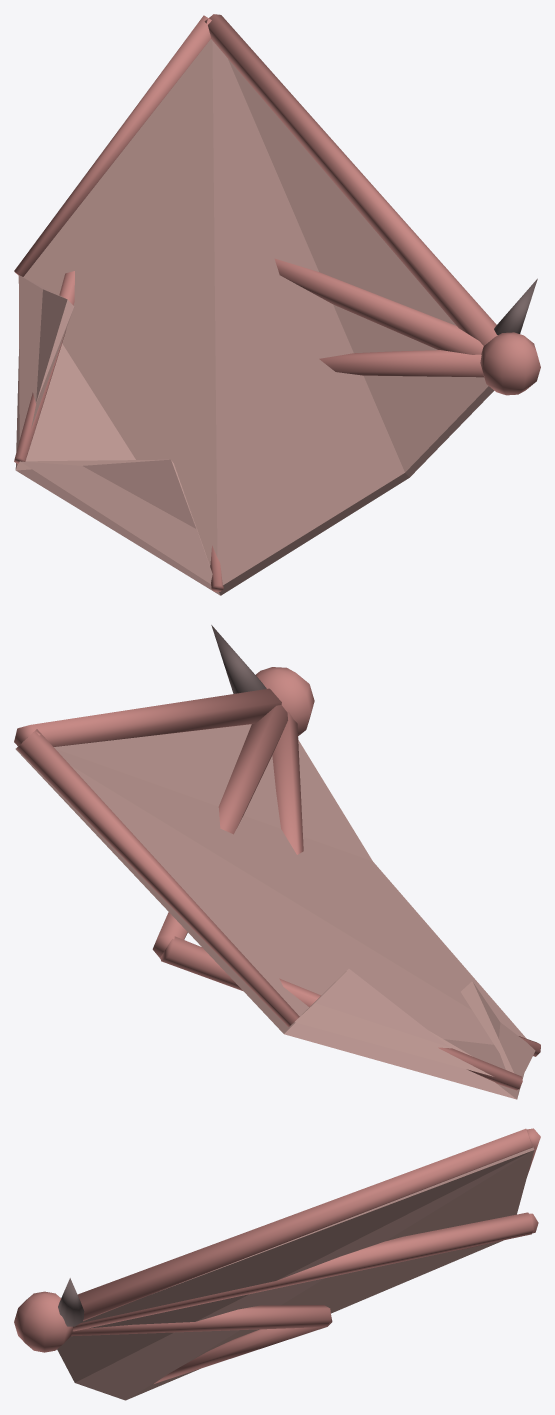
The model's file is bat_wing_out_L.glb.
3 renders of one model, top to bottom at view 1: azimuth 30°, elevation 25°; view 2: azimuth 150°, elevation 25°; view 3: azimuth 270°, elevation 25°, orthographic. The views are drawn at different scales.
Parts seen in each view (by area): view 1: bat_wing_out_L; view 2: bat_wing_out_L; view 3: bat_wing_out_L.
Part boxes in pixels (box(x1,y1,x2,y2)): bat_wing_out_L: box(14, 14, 540, 595); bat_wing_out_L: box(14, 625, 540, 1099); bat_wing_out_L: box(14, 1128, 540, 1400).
Size of the model in its own units: 0.8483 by 0.7913 by 1.03.
